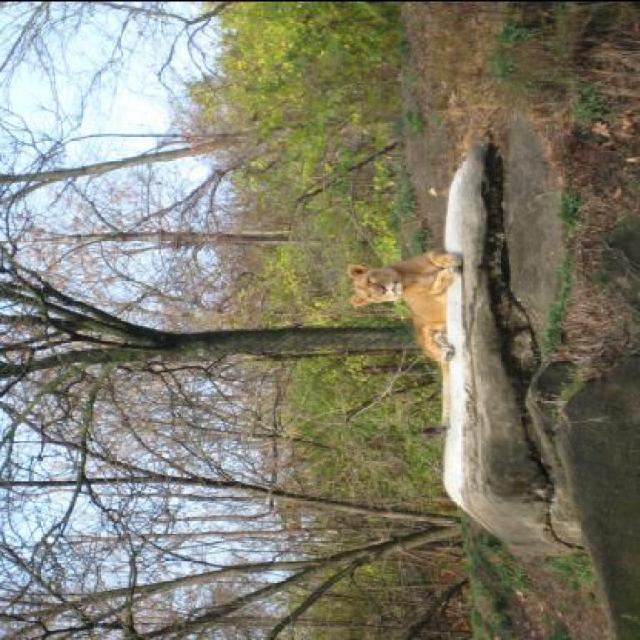Lion: (336, 234, 464, 432)
